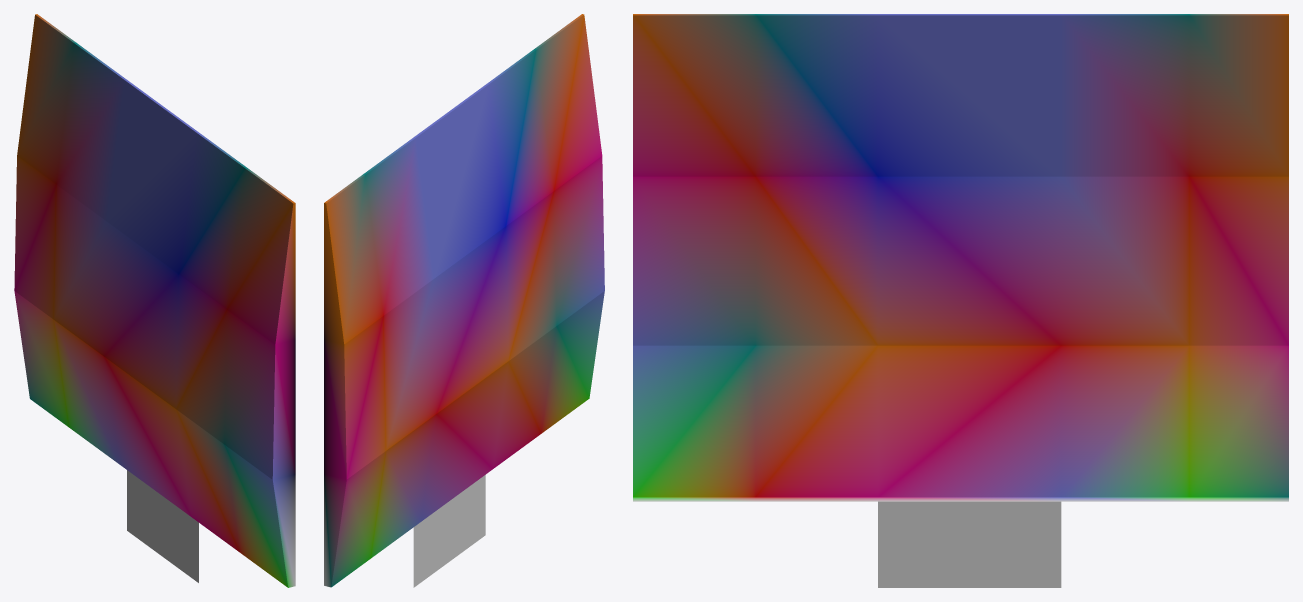
Rendered from calendar.fbx.
3 renders of one model, left to right at view 1: azimuth 30°, elevation 25°; view 2: azimuth 150°, elevation 25°; view 3: azimuth 270°, elevation 25°, orthographic. The views are drawn at different scales.
Visible parts, largest first — view 1: pPlane17; view 2: pPlane17; view 3: pPlane17.
Part boxes in pixels (x1,y1,x2,y2): pPlane17: (14, 14, 295, 587); pPlane17: (324, 14, 604, 587); pPlane17: (633, 14, 1288, 587).
Bounding box in the file's own units: 0.2519 × 4.76 × 4.95.
